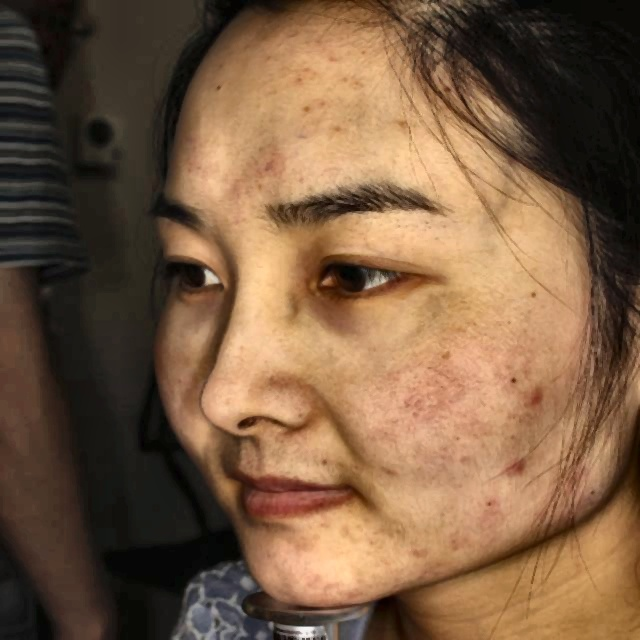comedone: (505, 454, 533, 486), (528, 384, 550, 408)
